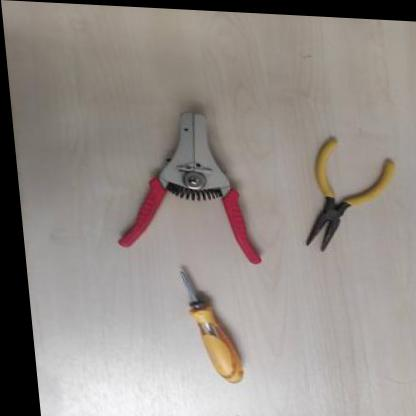Screwdriverrotation: (172, 266, 241, 383)
